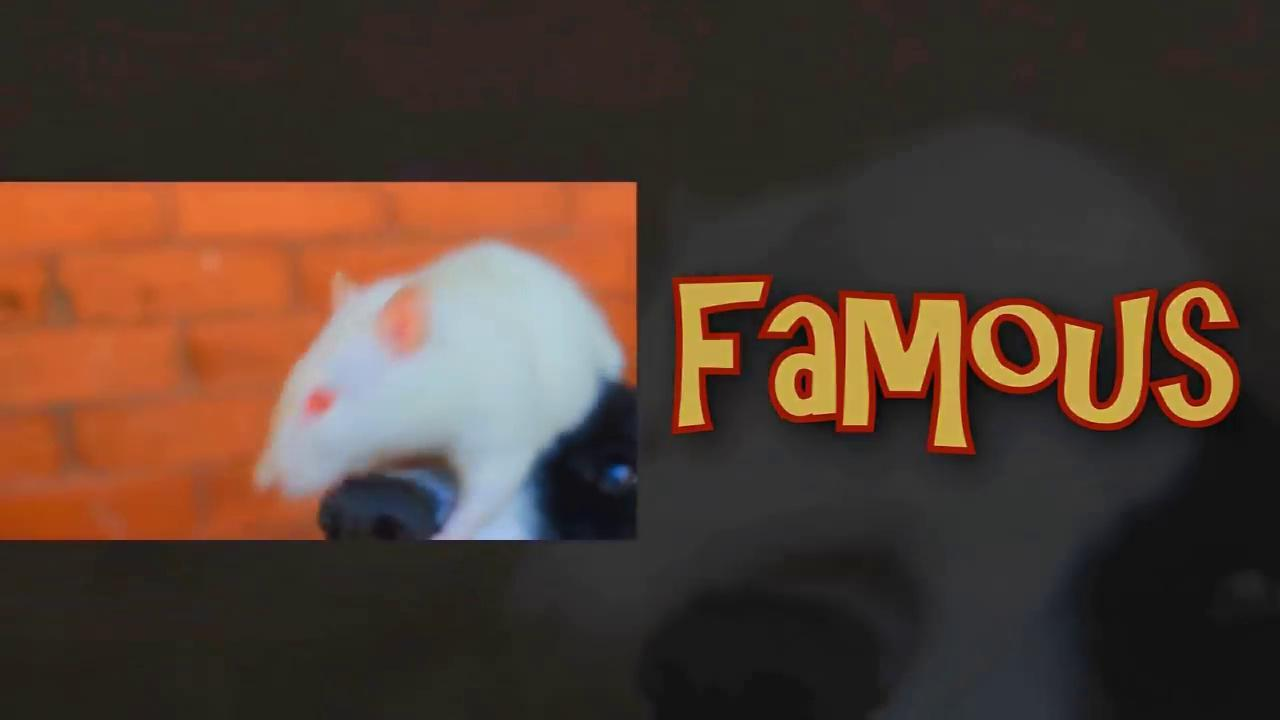rat: (252, 238, 624, 539)
